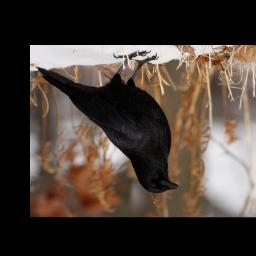Crow: (36, 49, 183, 197)
